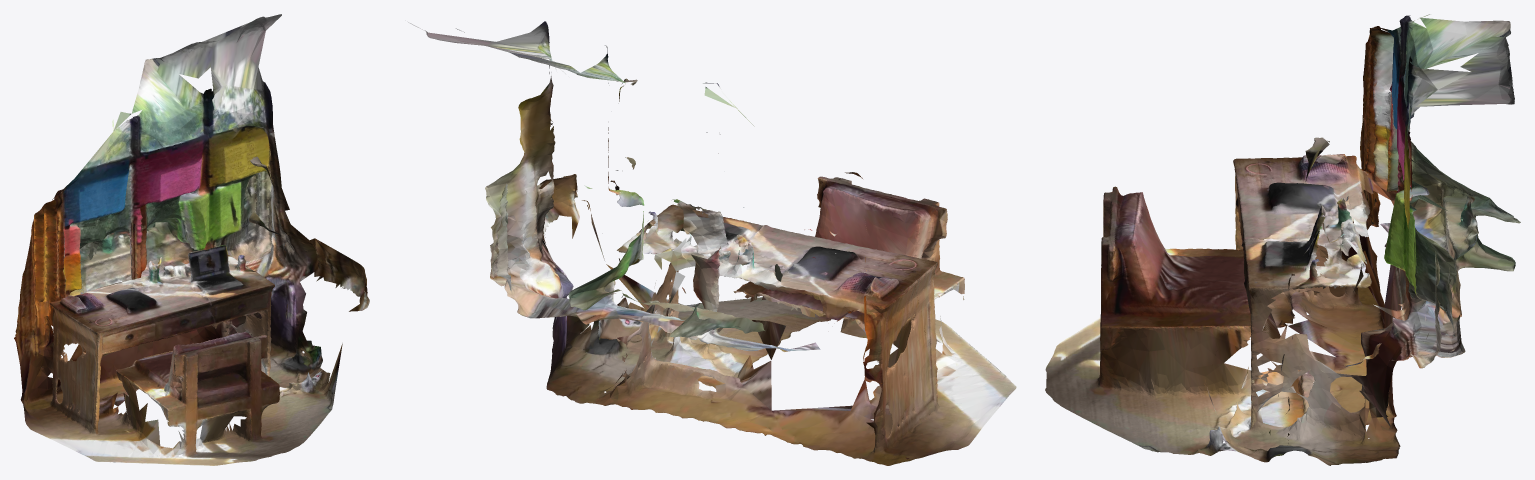
The model's file is brain1.glb.
3 renders of one model, left to right at view 1: azimuth 30°, elevation 25°; view 2: azimuth 150°, elevation 25°; view 3: azimuth 270°, elevation 25°, orthographic. The views are drawn at different scales.
Visible parts, largest first — view 1: mesh; view 2: mesh; view 3: mesh.
Part boxes in pixels (bbox=[...]): mesh: bbox=[14, 14, 369, 465]; mesh: bbox=[408, 21, 1016, 465]; mesh: bbox=[1045, 14, 1520, 465].
Size of the model in its own units: 3.11 by 2.6 by 2.74.
1 material, 1 textured.
